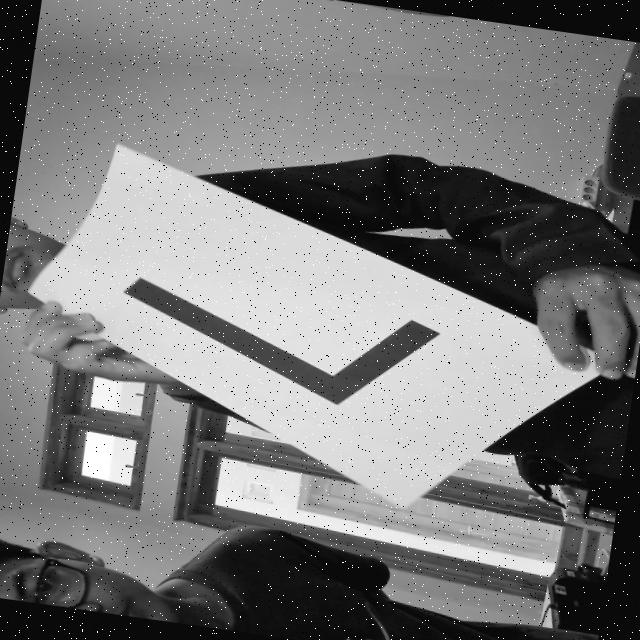l: (101, 214, 451, 428)
